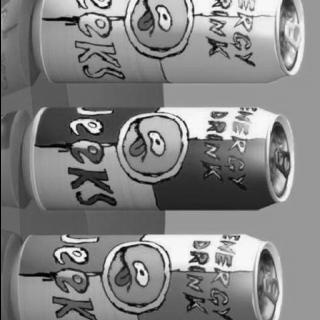alumunium_can: (22, 104, 296, 216), (5, 230, 284, 320), (30, 1, 308, 84)
